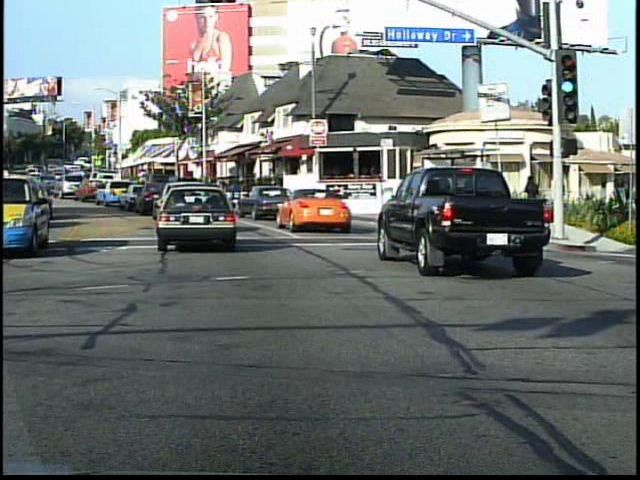person: (604, 191, 627, 260)
